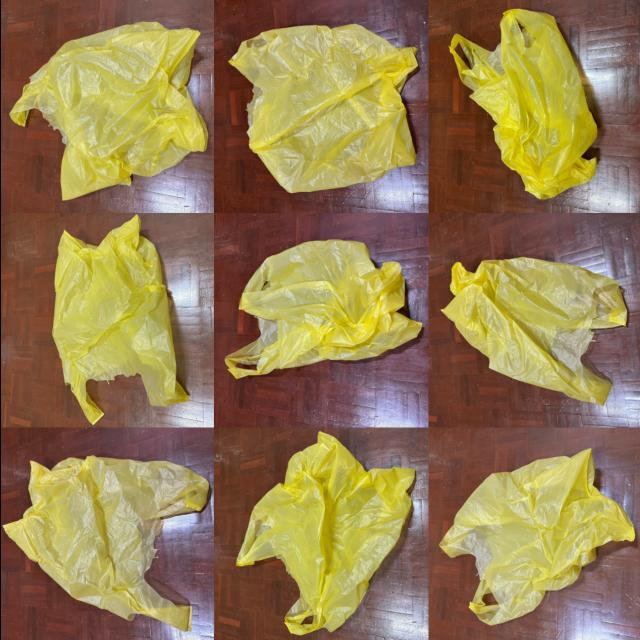plastik: (2, 456, 208, 631), (236, 432, 413, 634), (9, 22, 207, 200), (438, 450, 633, 624), (228, 25, 416, 193), (51, 216, 188, 423), (448, 9, 596, 198), (441, 257, 626, 404), (223, 240, 420, 378)
